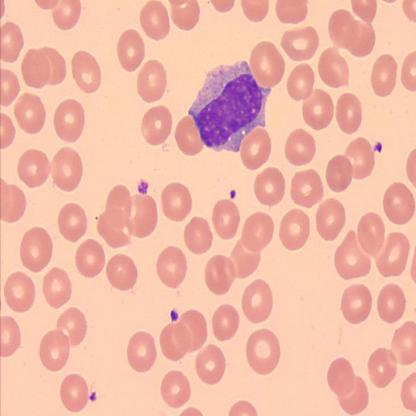Myelocyte: (188, 60, 272, 151)
